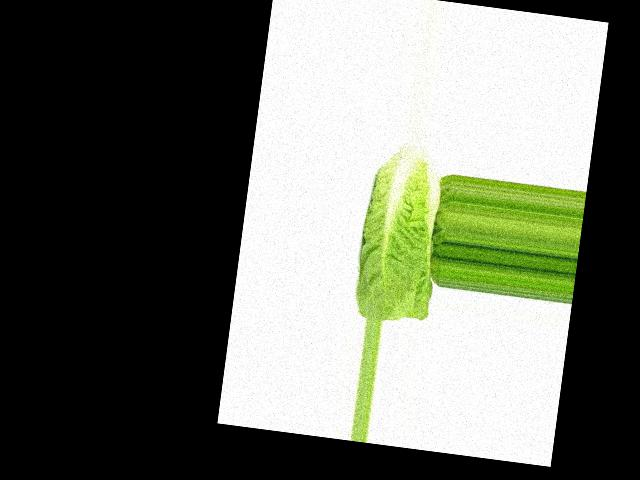lettuce: (341, 163, 443, 283)
